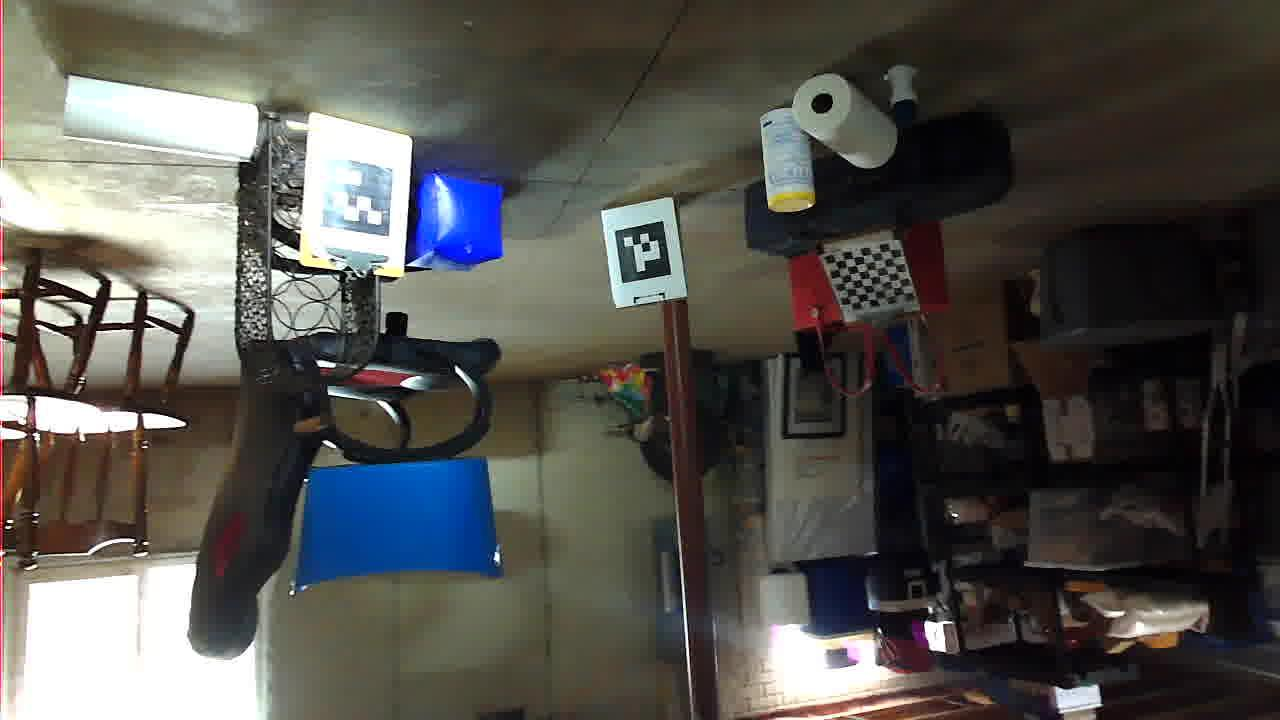coral: (1022, 557, 1218, 648)
